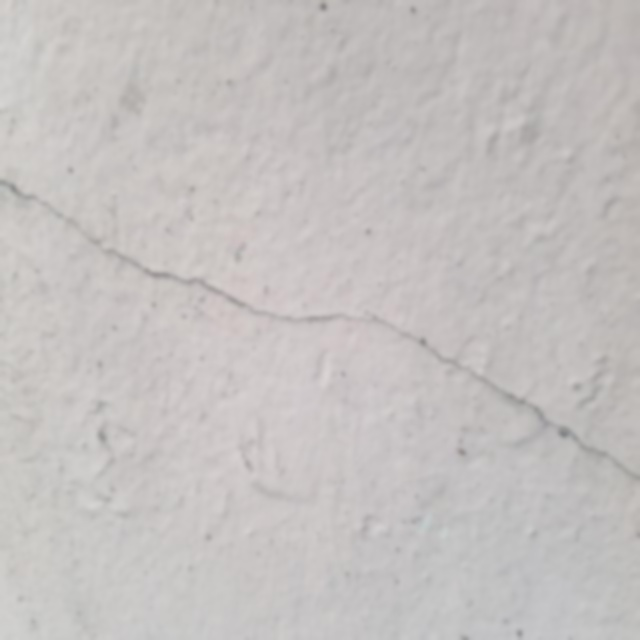SurfaceCrack: (0, 57, 639, 520)
